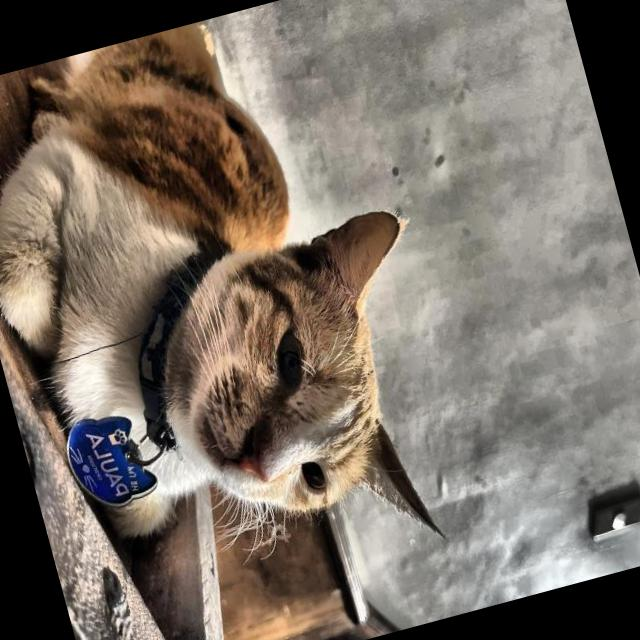Healthy skin: (262, 176, 443, 548), (168, 310, 288, 494), (89, 60, 240, 206)
